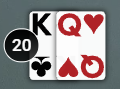k: (28, 10, 56, 39)
q: (53, 8, 84, 40)
